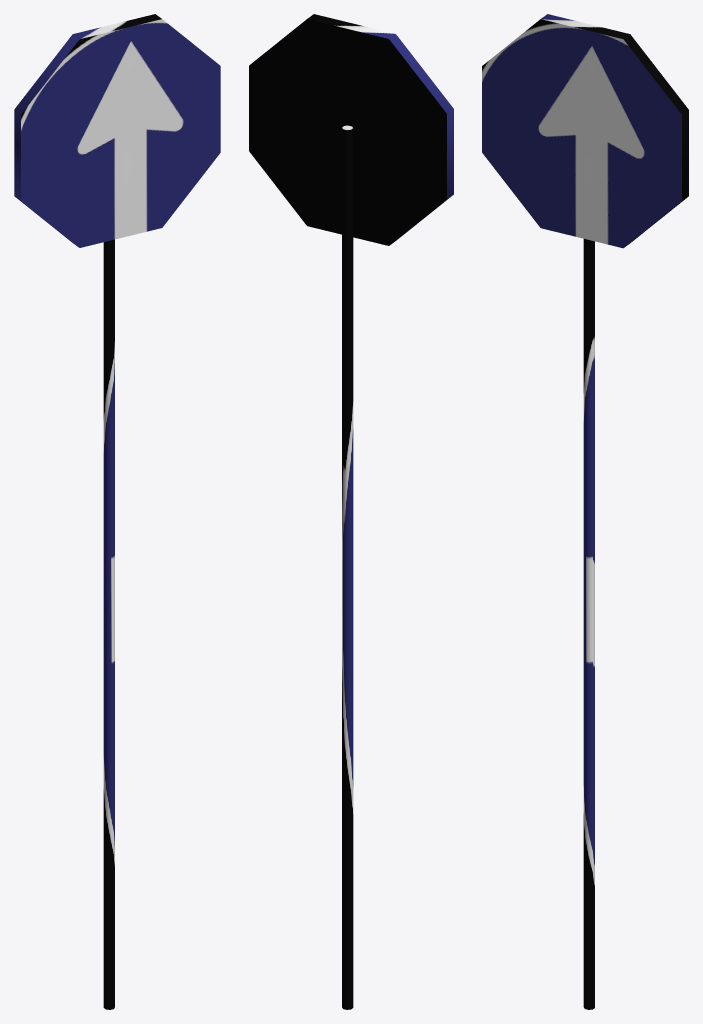
Rendered from aws_ForwardSign_01_visual.DAE.
3 views of the same model, side by side, from view 1: azimuth 30°, elevation 25°; view 2: azimuth 150°, elevation 25°; view 3: azimuth 330°, elevation 25° (orthographic).
Visible parts, largest first — view 1: aws_GuideBoard_01_visual; view 2: aws_GuideBoard_01_visual; view 3: aws_GuideBoard_01_visual.
Part boxes in pixels (<box>): aws_GuideBoard_01_visual: <box>14,14,220,1009</box>; aws_GuideBoard_01_visual: <box>249,14,453,1009</box>; aws_GuideBoard_01_visual: <box>482,14,688,1009</box>.
Size of the model in its own units: 40.34 by 4.23 by 190.
1 material, 1 textured.
